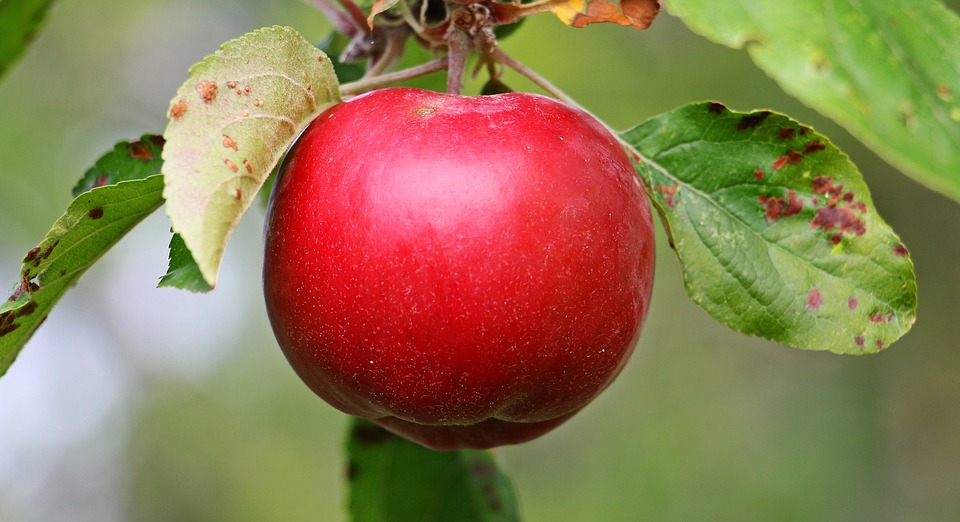apple: (261, 86, 662, 452)
